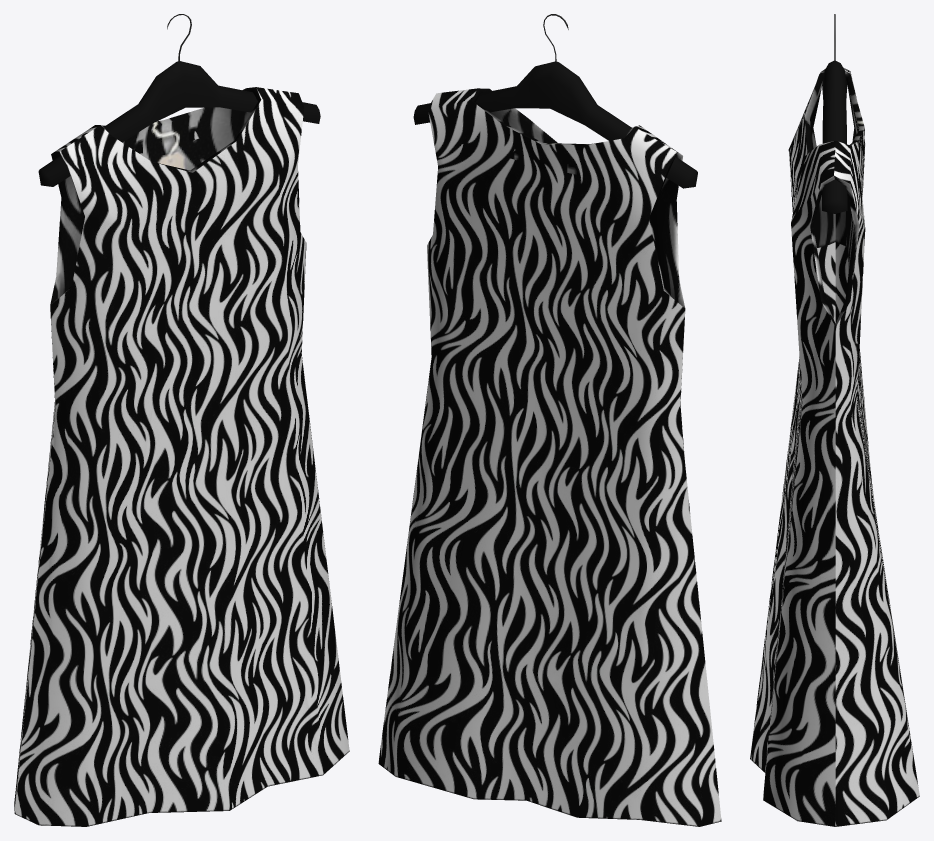
The model's file is dress2.dae.
3 renders of one model, left to right at view 1: azimuth 30°, elevation 25°; view 2: azimuth 150°, elevation 25°; view 3: azimuth 270°, elevation 25°, orthographic. The views are drawn at different scales.
Parts seen in each view (by area): view 1: _3DGeom_4, _3DGeom_4_Defintion_1 (×2), _3DGeom_5; view 2: _3DGeom_4_Defintion_1 (×3), _3DGeom_5; view 3: _3DGeom_4, _3DGeom_4_Defintion_1 (×3), _3DGeom_5.
Part boxes in pixels (bbox=[...]): _3DGeom_4: bbox=[14, 87, 349, 826]; _3DGeom_4_Defintion_1 (×2): bbox=[14, 87, 255, 811]; _3DGeom_5: bbox=[38, 61, 320, 186]; _3DGeom_4_Defintion_1 (×3): bbox=[378, 88, 721, 826]; _3DGeom_5: bbox=[413, 61, 697, 188]; _3DGeom_4: bbox=[750, 69, 835, 826]; _3DGeom_4_Defintion_1 (×3): bbox=[804, 67, 919, 826]; _3DGeom_5: bbox=[822, 60, 847, 213].
Bounding box in the file's own units: 7.93 × 3.68 × 17.79.
3 materials, 1 textured.
